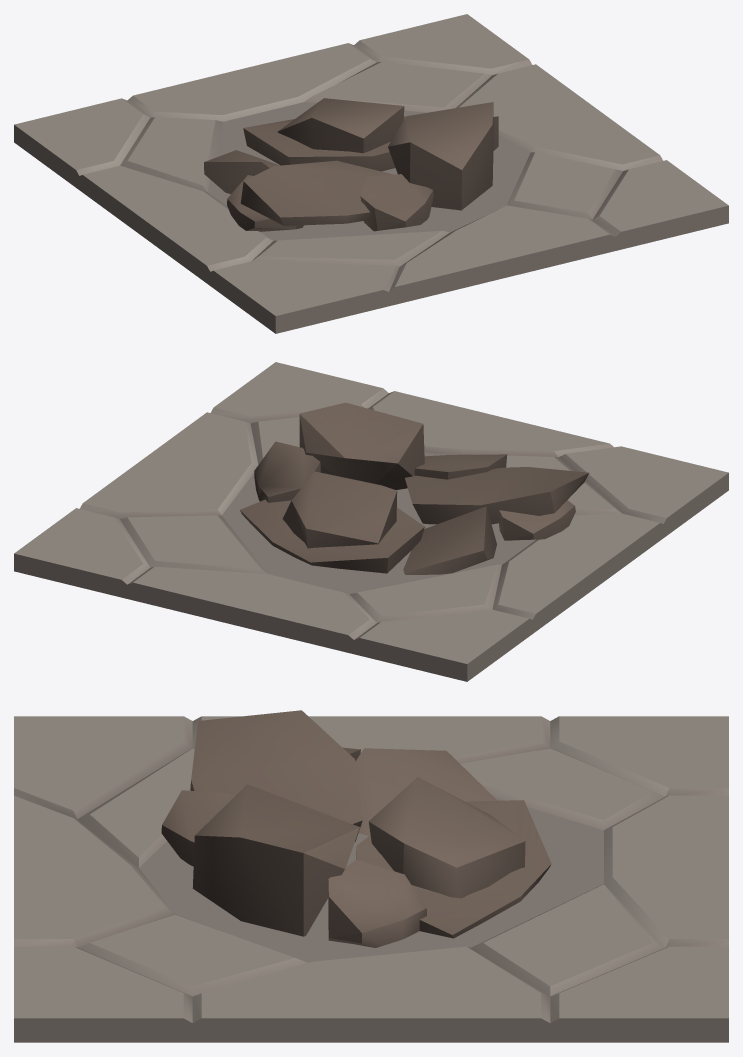
Rendered from dungeon-floor-rocks.glb.
3 views of the same model, one above another, from view 1: azimuth 30°, elevation 25°; view 2: azimuth 150°, elevation 25°; view 3: azimuth 270°, elevation 25° (orthographic). The views are drawn at different scales.
Visible parts, largest first — view 1: dungeon-floor-rocks; view 2: dungeon-floor-rocks; view 3: dungeon-floor-rocks.
Part boxes in pixels (x1,y1,x2,y2): dungeon-floor-rocks: (14,14,728,333); dungeon-floor-rocks: (14,362,728,681); dungeon-floor-rocks: (14,710,728,1042).
Bounding box in the file's own units: 3 × 0.4772 × 3.
Materials: 1 (1 with a texture image).
